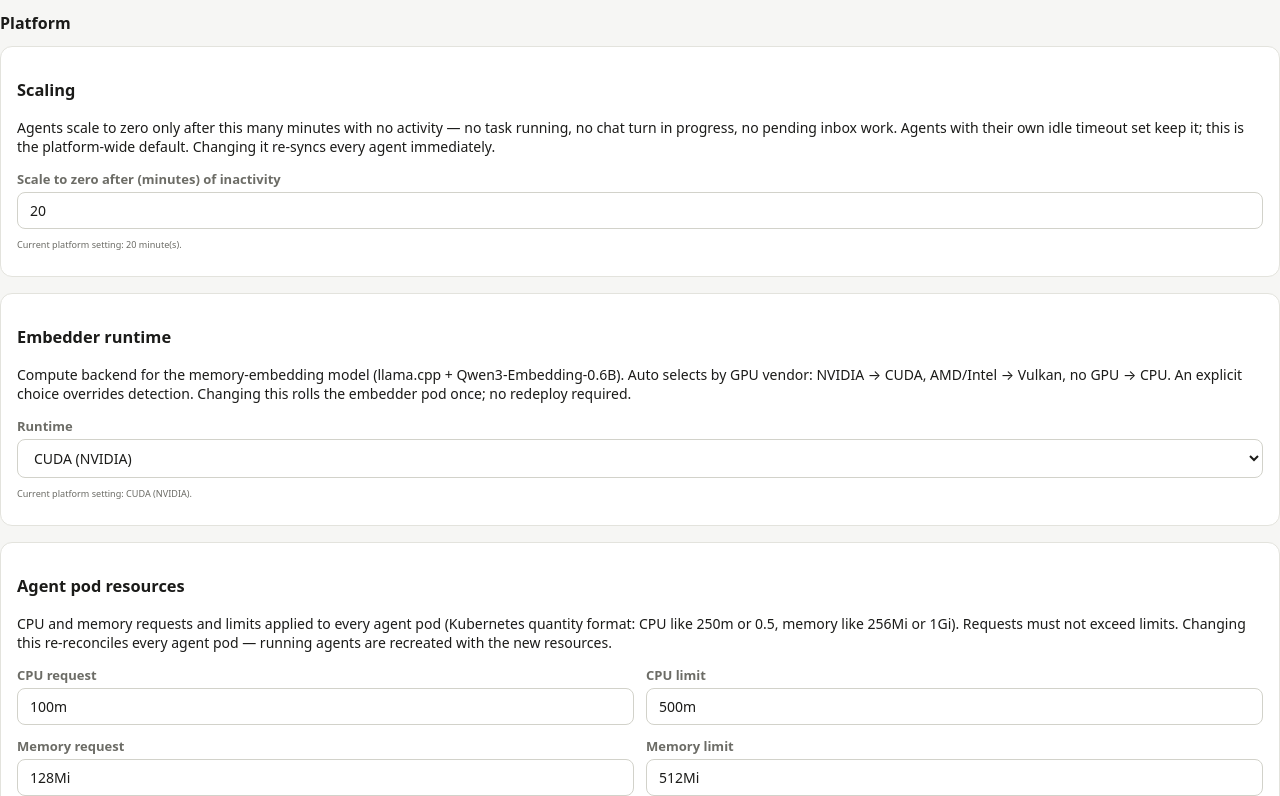
Scenario: PlatformSettingsTab save › save failure surfaces the ApiError message
Check: the text "Current platform setting: 20 minute(s)." is shown, box [17,238,182,251]
Replace the text in the field named "Scale to zero after minutes of inactivity" with "60" at (640, 210), box [17,192,1263,229]
(page scrolled)
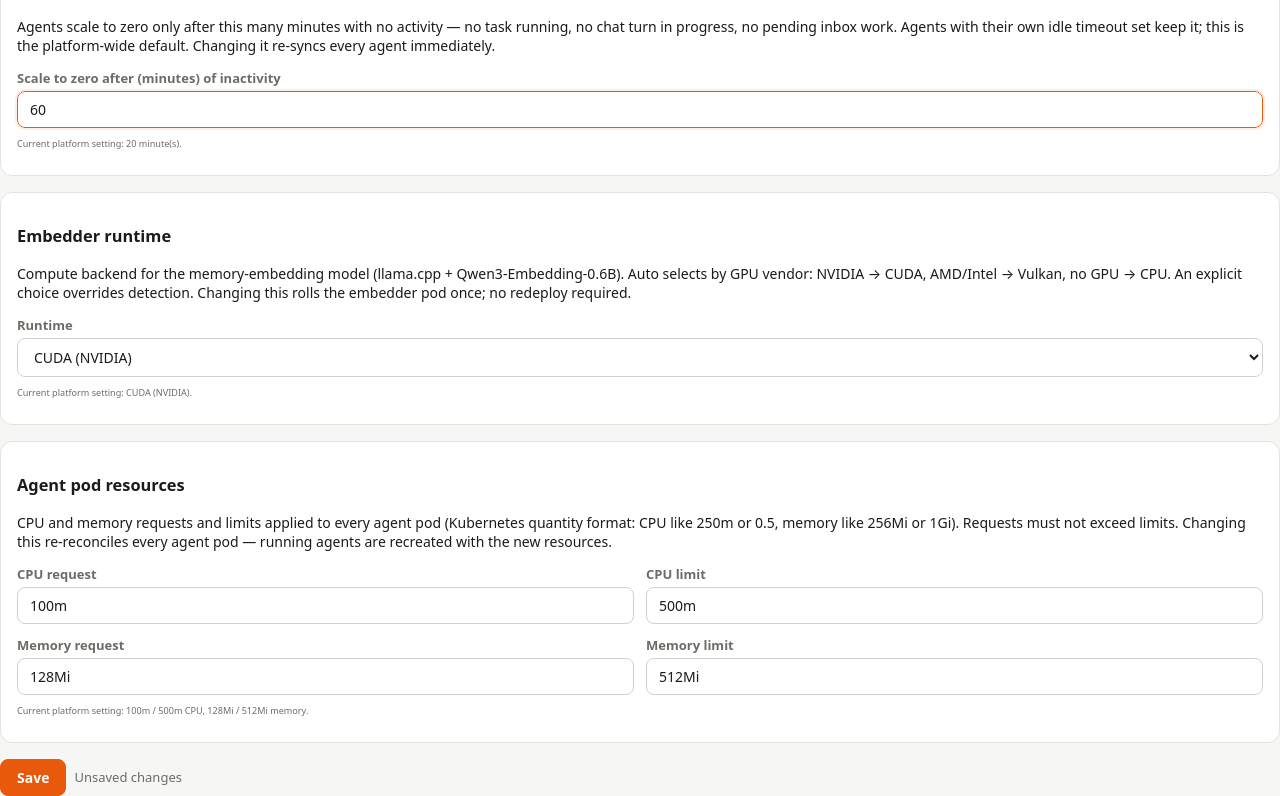
Click the button "Save".
click(33, 777)  # box [0,759,66,795]
(page scrolled)
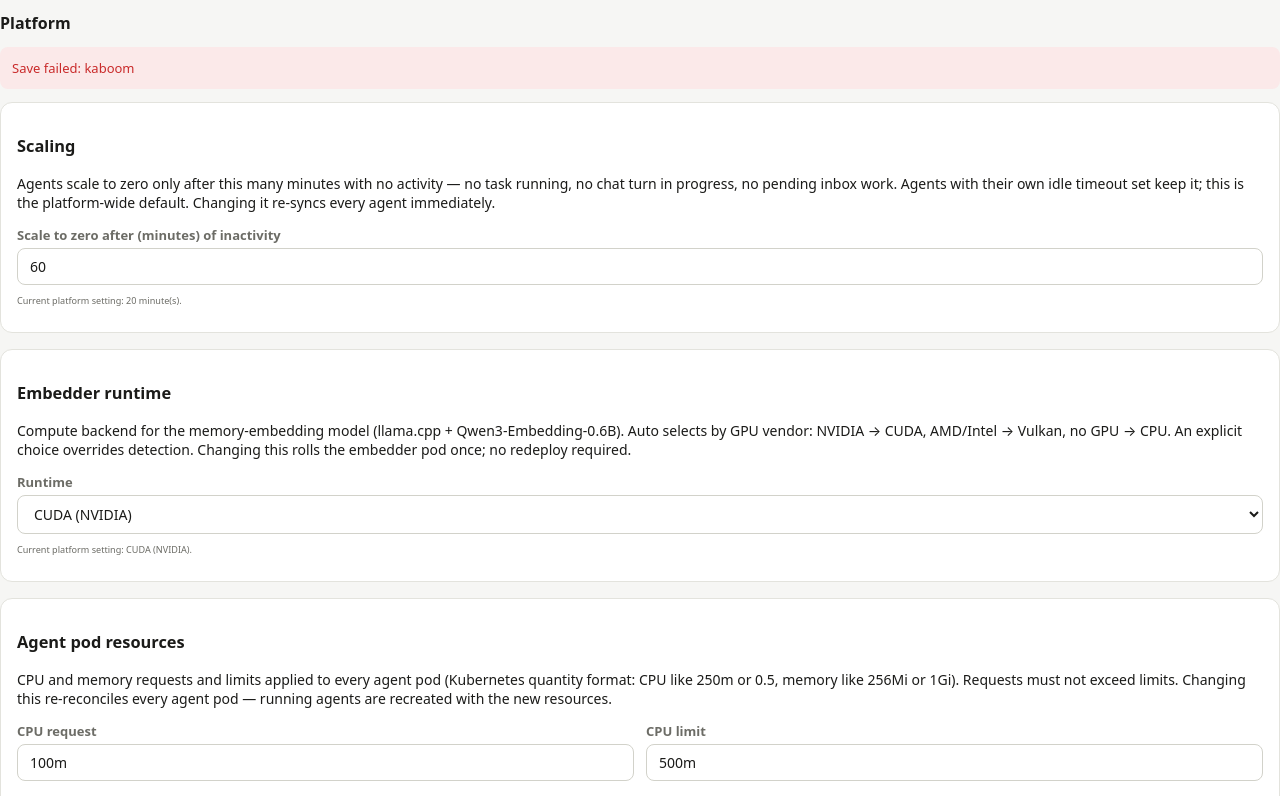
Check: the message reads "Save failed: kaboom", box [12,59,134,77]
